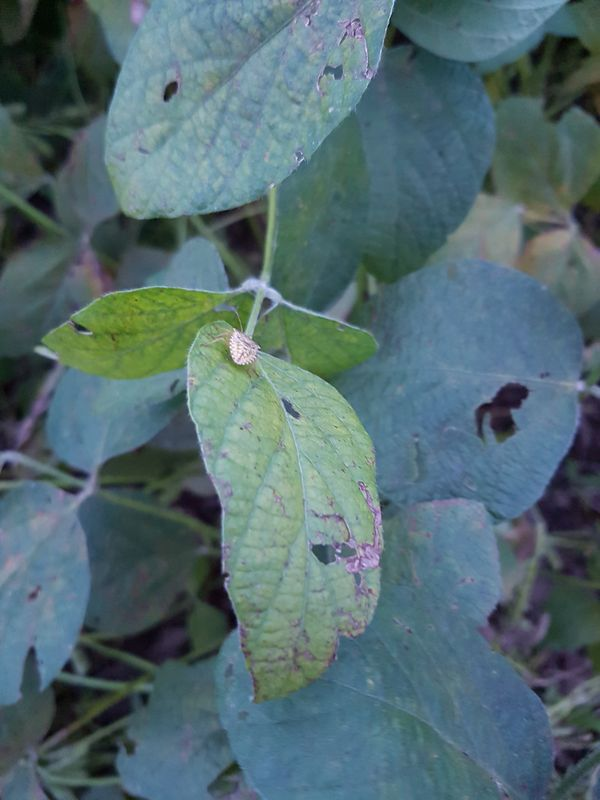Euschistus_heros_ninfa: (209, 309, 271, 374)
